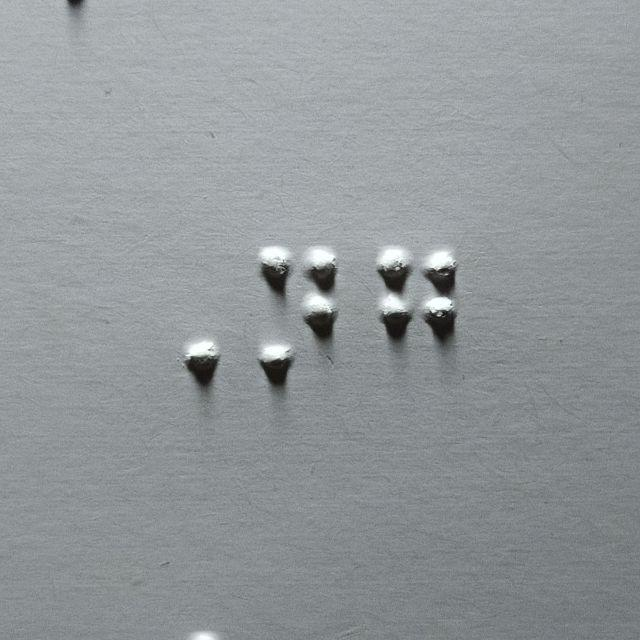G: (377, 245, 457, 381)
N: (259, 243, 338, 381)
capital: (143, 243, 222, 380)
